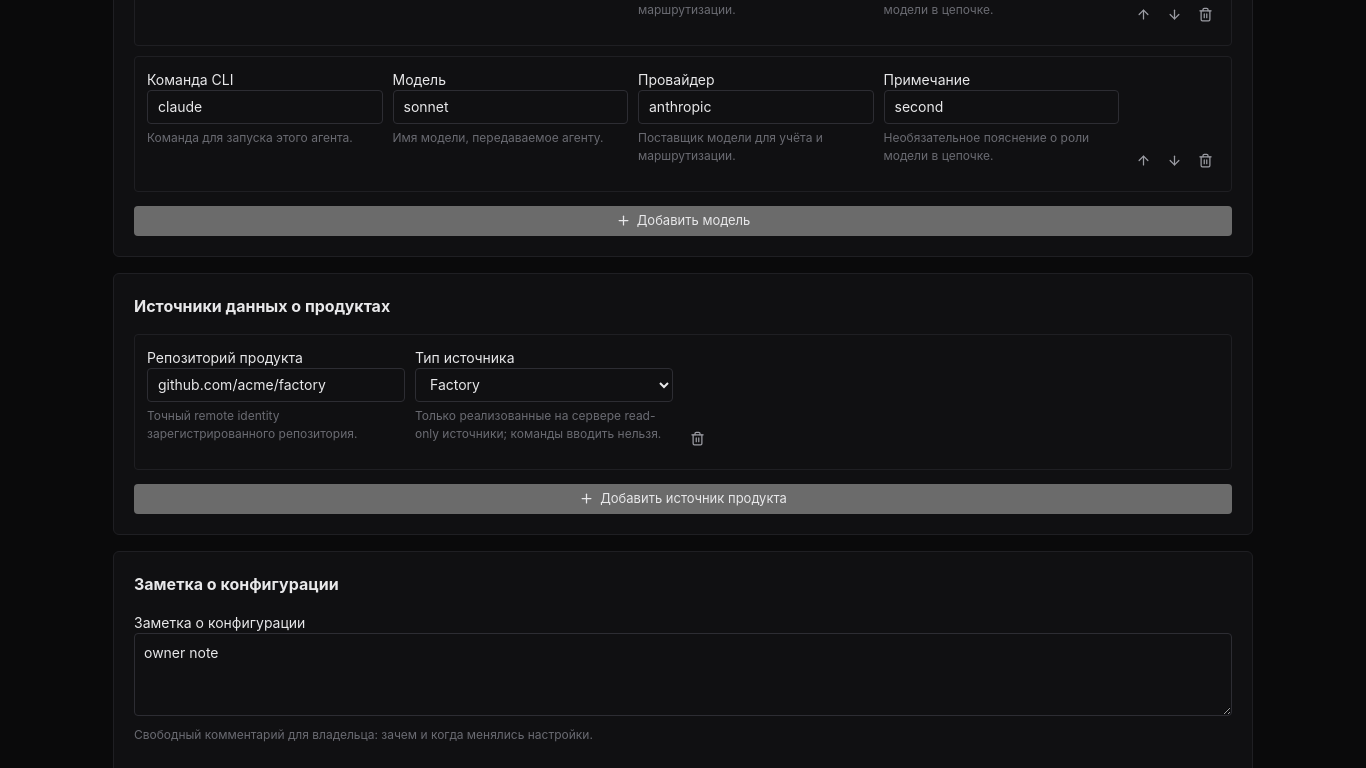
Test: edits and saves only a known product provider type
(page scrolled)
Expected: the heading "Источники данных о продуктах" is shown, [134, 296, 390, 316]
Select "Торговая система" in the dropdown labelled "Тип источника" at [544, 384], box [415, 368, 673, 402]
(page scrolled)
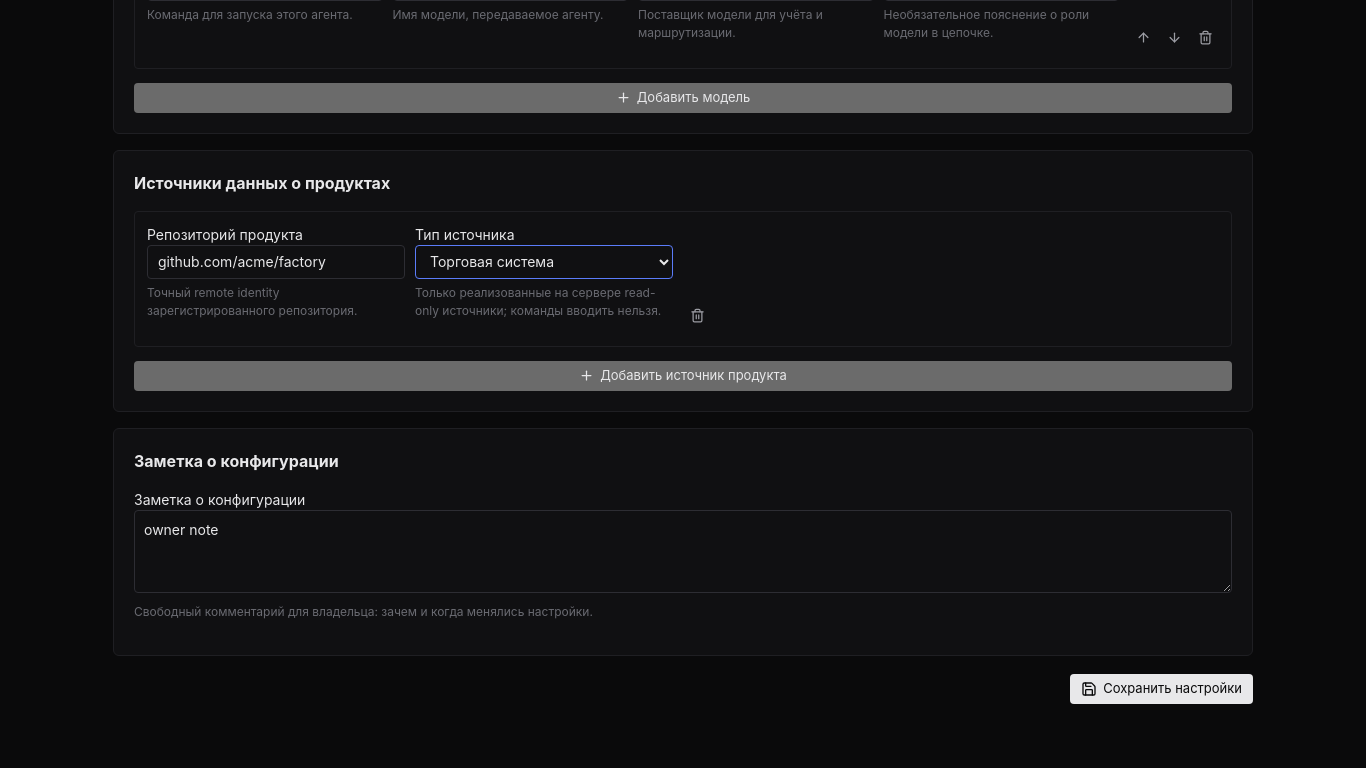
Click the button "Сохранить настройки" at [1162, 689], box [1070, 674, 1253, 704]
(page scrolled)
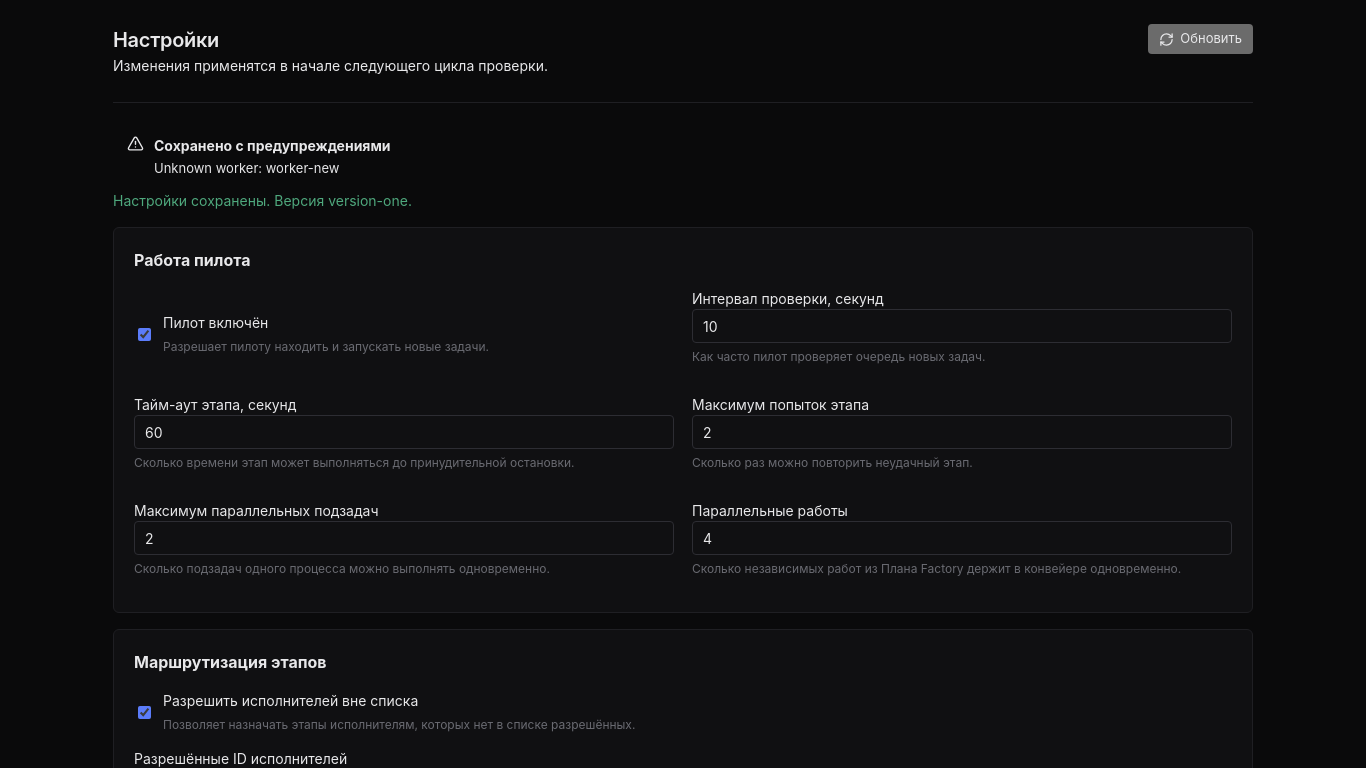
Now the text "Настройки сохранены. Версия version-one." is shown, box [113, 192, 412, 209]
